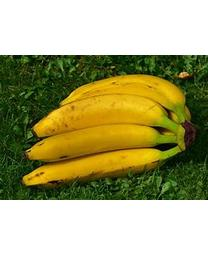banana: (22, 73, 196, 187)
